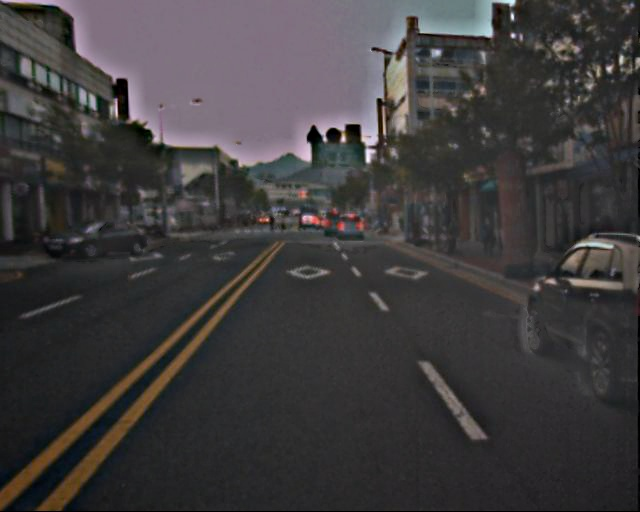person: (477, 211, 496, 258)
